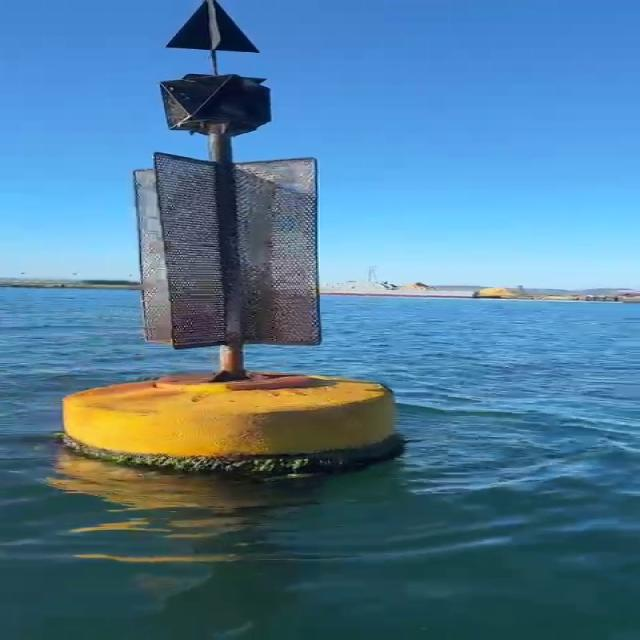marque: (61, 1, 397, 482)
